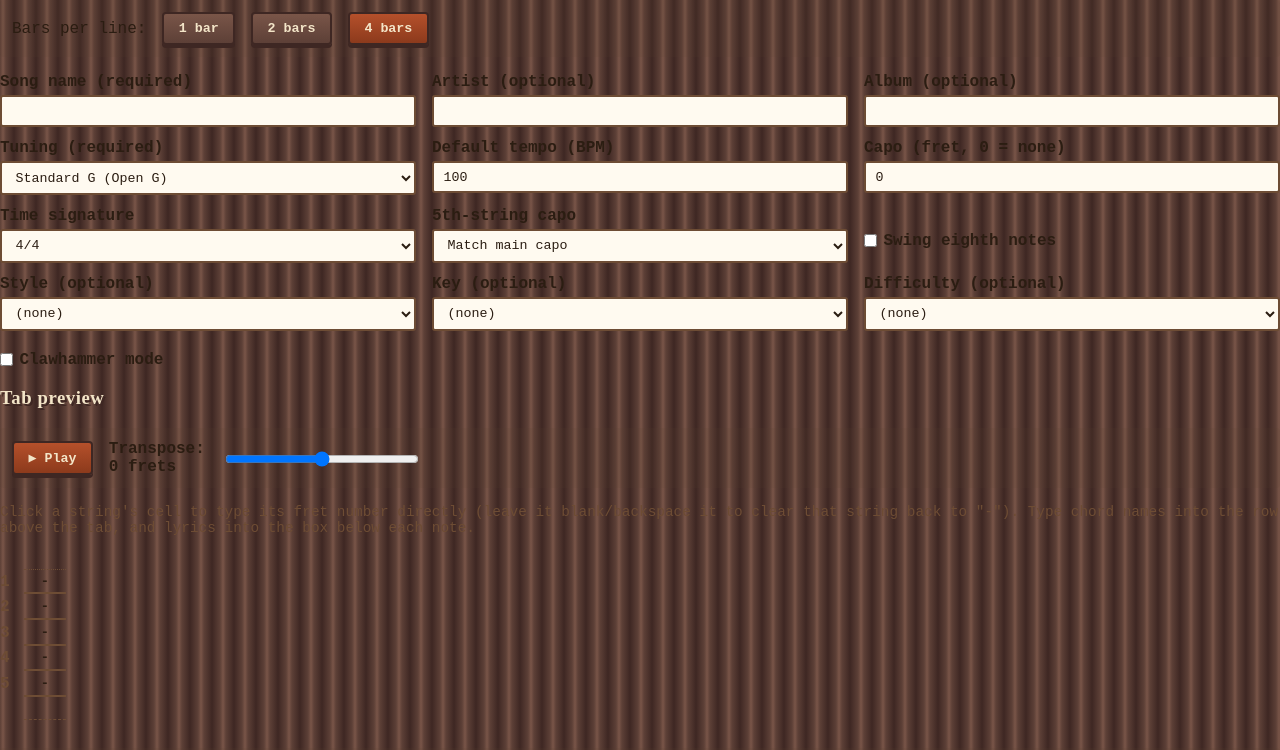
it: TabEditor › pressing Escape right after clicking a blank cell fully reverts it back to '-'
Click the 1st text with class "clickable" at (45, 582), box [24,570,66,594]
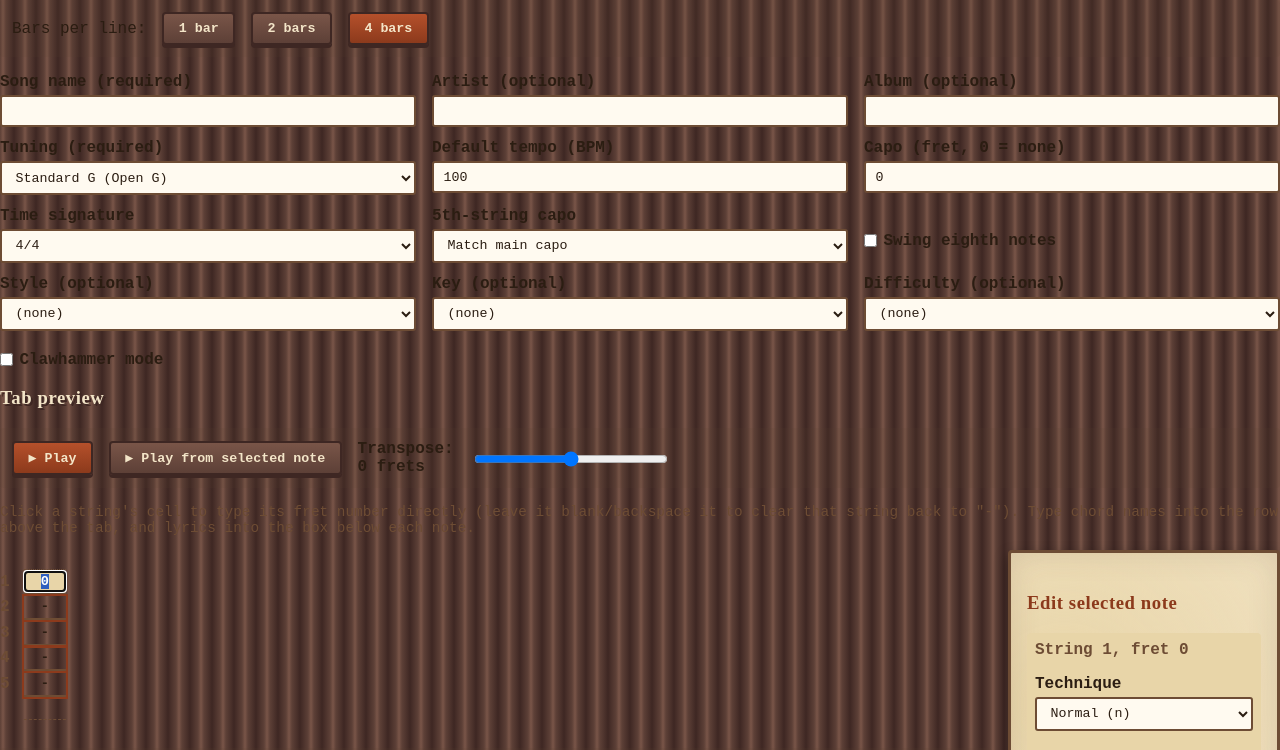
Press Escape
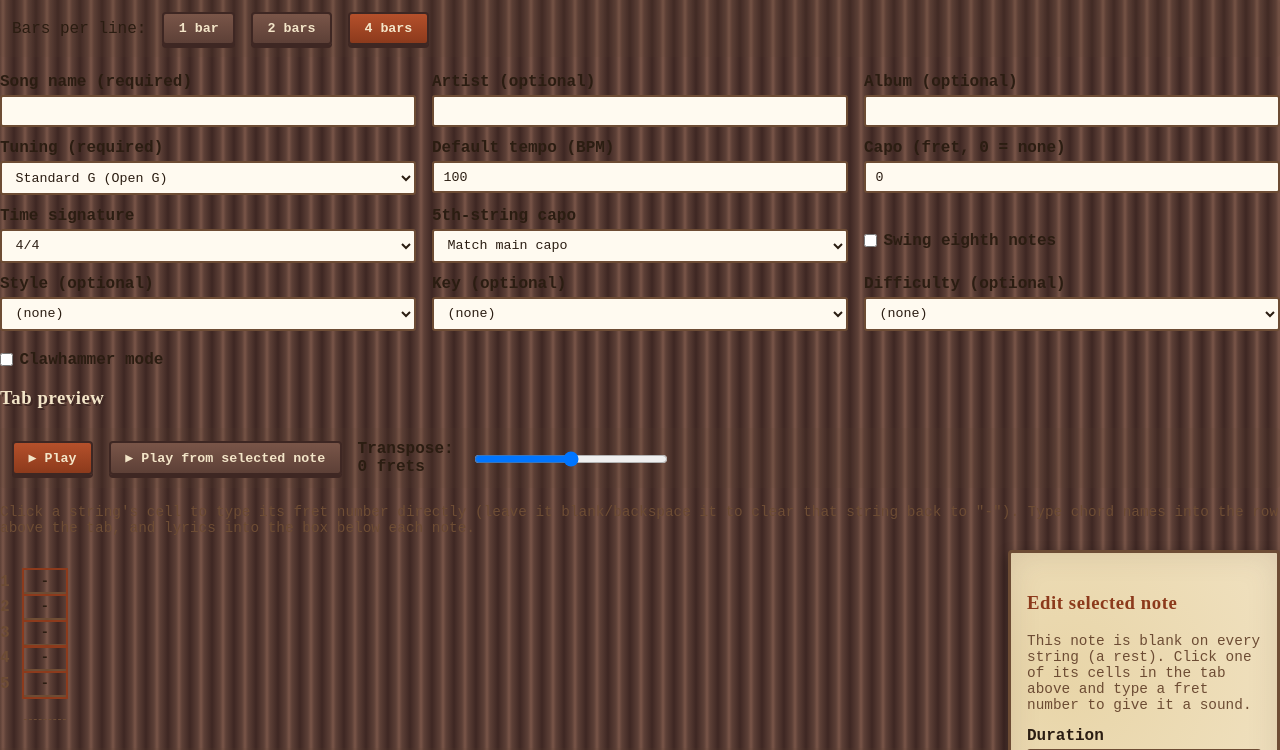
Expected: the text "blank on every string" is shown, [1027,633,1260,713]
